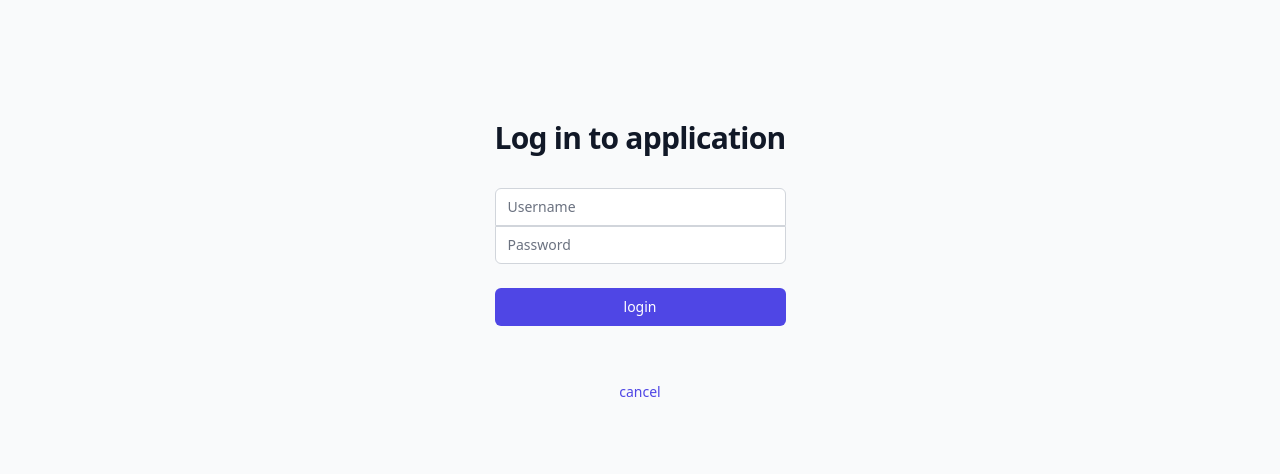
Test: Blog app › Login › fails with wrong credentials
Type "root" into the field with id "username" at [641, 207], box [495, 188, 786, 226]
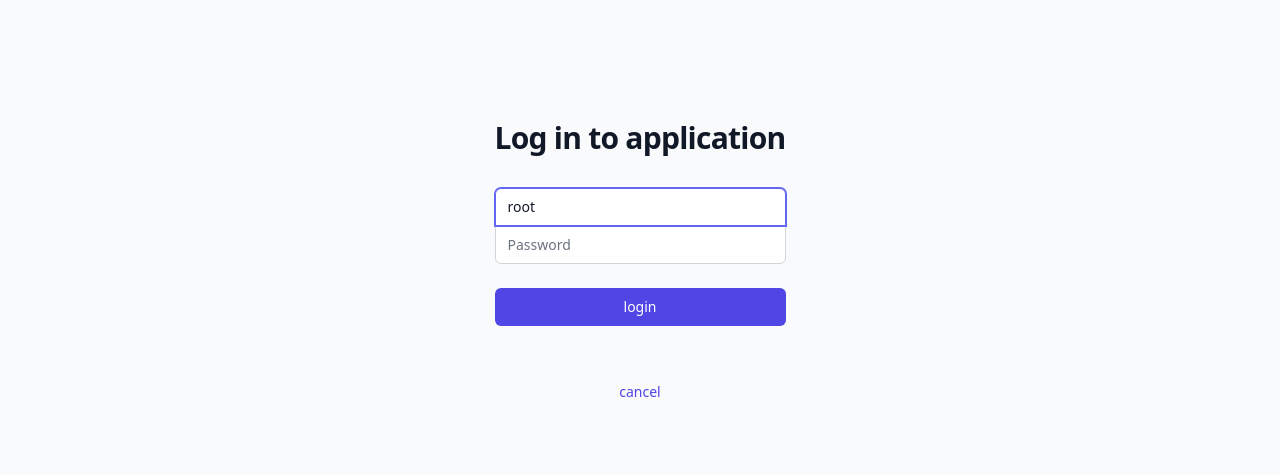
Type "wrong" into the password field with placeholder "Password" at [641, 245], box [495, 226, 786, 264]
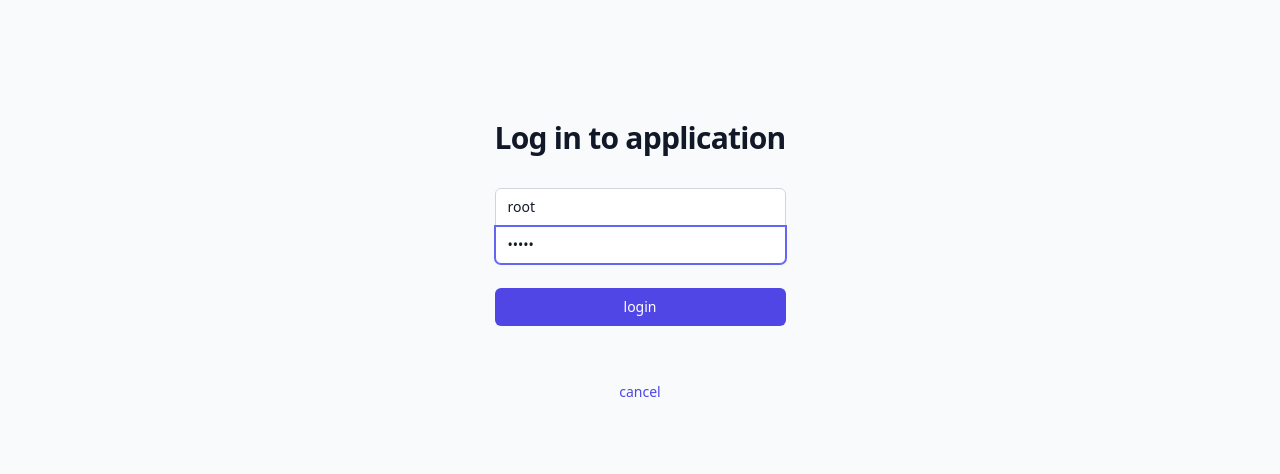
Click the button with id "loginButton" at [641, 307], box [495, 288, 786, 326]
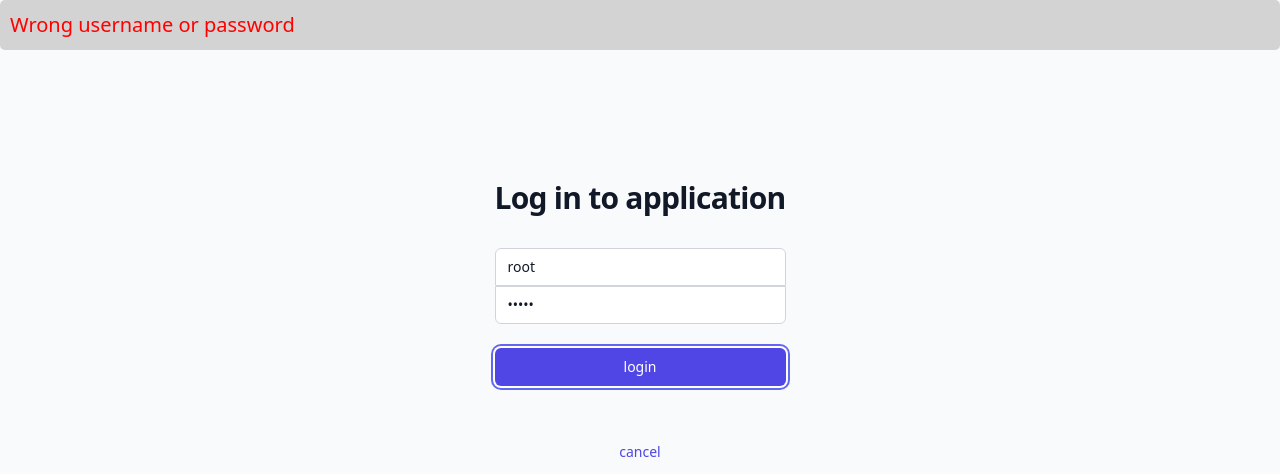
Expected: the text with class "error" reads "Wrong username or password", [10, 11, 295, 38]
